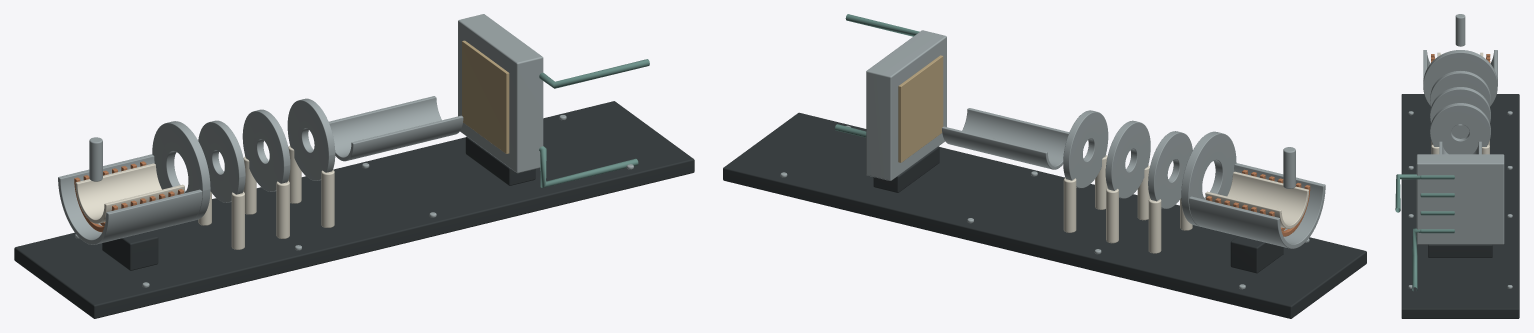
The model's file is beam-target.glb.
The picture shows the model from 3 angles, left to right: view 1: azimuth 30°, elevation 25°; view 2: azimuth 150°, elevation 25°; view 3: azimuth 270°, elevation 25°; orthographic projection. The views are drawn at different scales.
Visible parts, largest first — view 1: Vacuum beamline base, Cooled substrate, Downstream vacuum tube cutaway, Cutaway source chamber, LiT layer - exaggerated thickness, Ceramic RF tube, Source flange, Accelerator electrode.002, Accelerator electrode, Accelerator electrode.001, Mounting support - source, Mounting support - substrate (+8 smaller); view 2: Vacuum beamline base, Cooled substrate, Downstream vacuum tube cutaway, Cutaway source chamber, LiT layer - exaggerated thickness, Ceramic RF tube, Source flange, Accelerator electrode.002, Accelerator electrode, Accelerator electrode.001, Mounting support - source, Mounting support - substrate (+7 smaller); view 3: Vacuum beamline base, Cooled substrate, Accelerator electrode, Source flange, Accelerator electrode.002, Accelerator electrode.001, Mounting support - substrate, Cooling supply, Deuterium gas feed, Cooling return, Cutaway source chamber, Cooling connection.001 (+4 smaller).
Boxes of the visible parts, x1,y1,x2,y2 form: Vacuum beamline base: [14, 101, 694, 318]; Cooled substrate: [458, 14, 543, 173]; Downstream vacuum tube cutaway: [329, 96, 463, 161]; Cutaway source chamber: [58, 154, 202, 244]; LiT layer - exaggerated thickness: [462, 40, 509, 153]; Ceramic RF tube: [75, 163, 184, 223]; Source flange: [152, 121, 210, 221]; Accelerator electrode.002: [242, 109, 290, 191]; Accelerator electrode: [287, 98, 335, 180]; Accelerator electrode.001: [198, 120, 245, 202]; Mounting support - source: [102, 231, 158, 270]; Mounting support - substrate: [465, 136, 535, 185]; Vacuum beamline base: [723, 112, 1366, 318]; Cooled substrate: [866, 30, 946, 180]; Downstream vacuum tube cutaway: [942, 108, 1069, 169]; Cutaway source chamber: [1189, 163, 1325, 248]; LiT layer - exaggerated thickness: [898, 55, 943, 162]; Ceramic RF tube: [1205, 171, 1308, 228]; Source flange: [1181, 131, 1236, 226]; Accelerator electrode.002: [1105, 120, 1150, 198]; Accelerator electrode: [1063, 110, 1108, 188]; Accelerator electrode.001: [1148, 131, 1192, 208]; Mounting support - source: [1230, 236, 1283, 273]; Mounting support - substrate: [873, 146, 939, 192]; Vacuum beamline base: [1401, 94, 1519, 318]; Cooled substrate: [1416, 154, 1504, 244]; Accelerator electrode: [1430, 103, 1490, 154]; Source flange: [1423, 50, 1497, 106]; Accelerator electrode.002: [1430, 87, 1490, 138]; Accelerator electrode.001: [1430, 70, 1490, 106]; Mounting support - substrate: [1428, 244, 1492, 257]; Cooling supply: [1412, 228, 1420, 290]; Deuterium gas feed: [1455, 14, 1465, 46]; Cooling return: [1395, 174, 1420, 212]; Cutaway source chamber: [1423, 50, 1497, 82]; Cooling connection.001: [1420, 229, 1454, 233].
Size of the model in its own units: 6.7 by 1.52 by 1.63.
